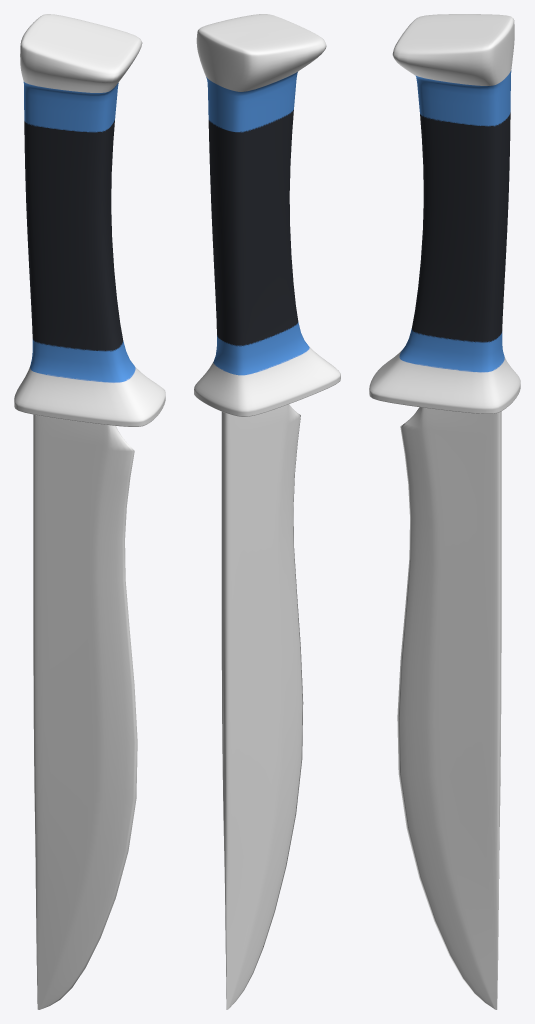
File: Tennen_SRKnife_Model.fbx
3 views of the same model, side by side, from view 1: azimuth 90°, elevation 25°; view 2: azimuth 150°, elevation 25°; view 3: azimuth 270°, elevation 25° (orthographic).
Visible parts, largest first — view 1: SR_Knif; view 2: SR_Knif; view 3: SR_Knif.
Boxes of the visible parts, <box> form: SR_Knif: <box>14,14,165,1009</box>; SR_Knif: <box>194,14,340,1009</box>; SR_Knif: <box>369,14,520,1009</box>.
Size of the model in its own units: 4.23 by 39.35 by 5.51.
Materials: 1 (1 with a texture image).
